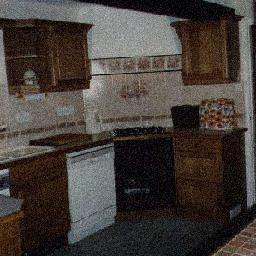Electrodomestico: (67, 147, 119, 233), (120, 141, 176, 207)
Lavaplatos: (2, 124, 55, 168)
